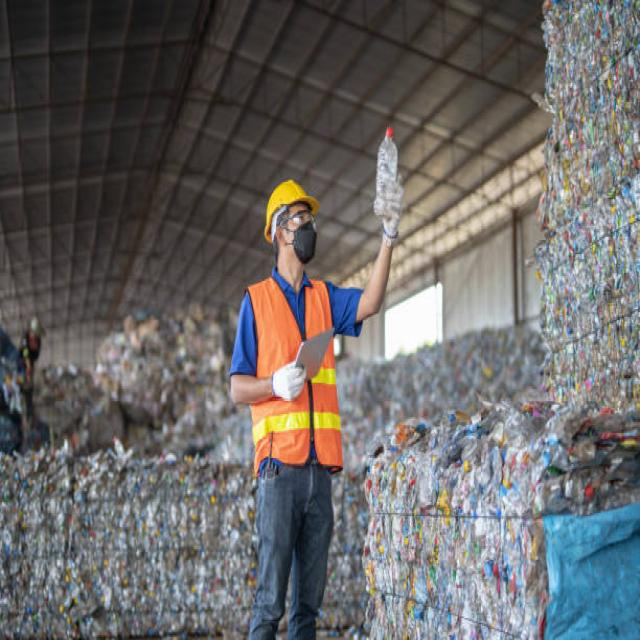plastic: (365, 450, 553, 640), (541, 31, 640, 338), (375, 128, 405, 216)
